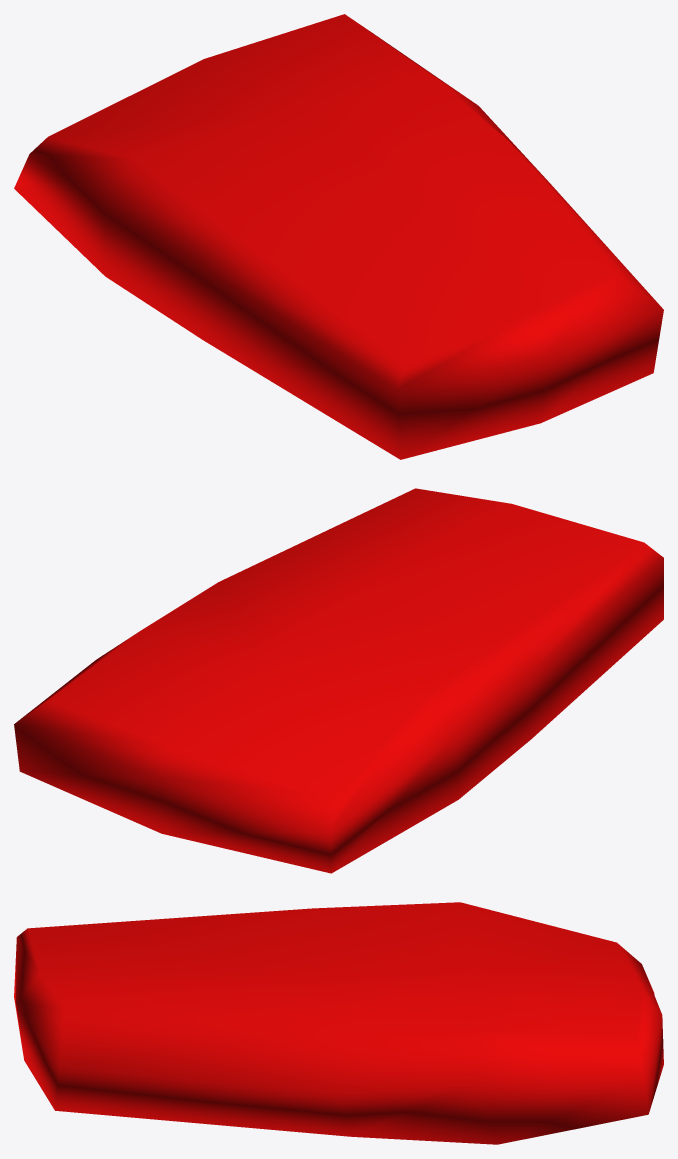
The model's file is Concrete_Block_06.fbx.
The picture shows the model from 3 angles, top to bottom: view 1: azimuth 30°, elevation 25°; view 2: azimuth 150°, elevation 25°; view 3: azimuth 270°, elevation 25°; orthographic projection. The views are drawn at different scales.
Visible parts, largest first — view 1: Concrete_Block_06; view 2: Concrete_Block_06; view 3: Concrete_Block_06.
Boxes of the visible parts, x1,y1,x2,y2 form: Concrete_Block_06: (14, 14, 663, 459); Concrete_Block_06: (14, 488, 663, 873); Concrete_Block_06: (14, 902, 663, 1144).
Bounding box in the file's own units: 52.72 × 14.67 × 88.35.
